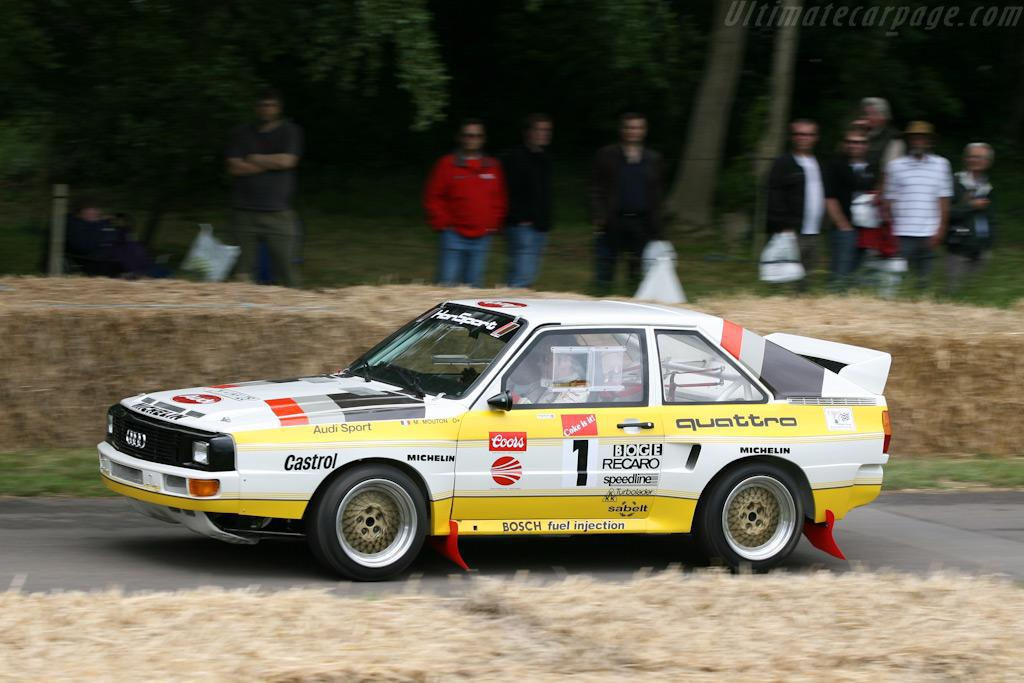face: (538, 346, 566, 379), (792, 123, 818, 150), (965, 145, 989, 172), (462, 123, 485, 151), (623, 118, 647, 144), (861, 102, 884, 128), (257, 96, 280, 121), (844, 132, 866, 158), (532, 120, 552, 147), (910, 132, 927, 154), (84, 205, 102, 223)
